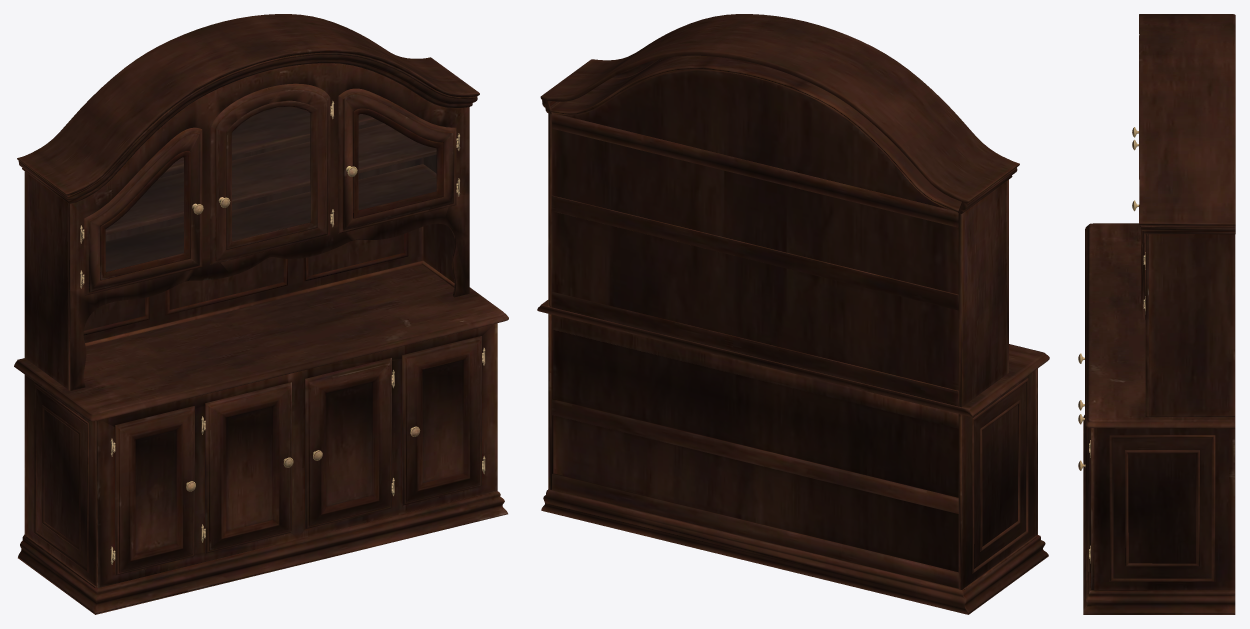
File: sideboard.glb
3 views of the same model, side by side, from view 1: azimuth 30°, elevation 25°; view 2: azimuth 150°, elevation 25°; view 3: azimuth 270°, elevation 25° (orthographic). The views are drawn at different scales.
Parts seen in each view (by area): view 1: vintage_cabinet_01_body, vintage_cabinet_01_door_03, vintage_cabinet_01_door_01, vintage_cabinet_01_door_04, vintage_cabinet_01_door_06, vintage_cabinet_01_door_07, vintage_cabinet_01_door_05, vintage_cabinet_01_door_02; view 2: vintage_cabinet_01_body; view 3: vintage_cabinet_01_body, vintage_cabinet_01_door_02, vintage_cabinet_01_door_04.
Part boxes in pixels (left/top/right/bottom): vintage_cabinet_01_body: left=14, top=14, right=508, bottom=614; vintage_cabinet_01_door_03: left=210, top=83, right=332, bottom=264; vintage_cabinet_01_door_01: left=82, top=127, right=203, bottom=295; vintage_cabinet_01_door_04: left=338, top=88, right=458, bottom=233; vintage_cabinet_01_door_06: left=204, top=382, right=293, bottom=553; vintage_cabinet_01_door_07: left=305, top=357, right=392, bottom=529; vintage_cabinet_01_door_05: left=113, top=406, right=195, bottom=575; vintage_cabinet_01_door_02: left=402, top=336, right=483, bottom=505; vintage_cabinet_01_body: left=537, top=14, right=1049, bottom=614; vintage_cabinet_01_body: left=1083, top=14, right=1235, bottom=614; vintage_cabinet_01_door_02: left=1078, top=427, right=1090, bottom=572; vintage_cabinet_01_door_04: left=1132, top=200, right=1145, bottom=319.
Bounding box in the file's own units: 2.02 × 2.24 × 0.6698.
3 materials, 2 textured.
